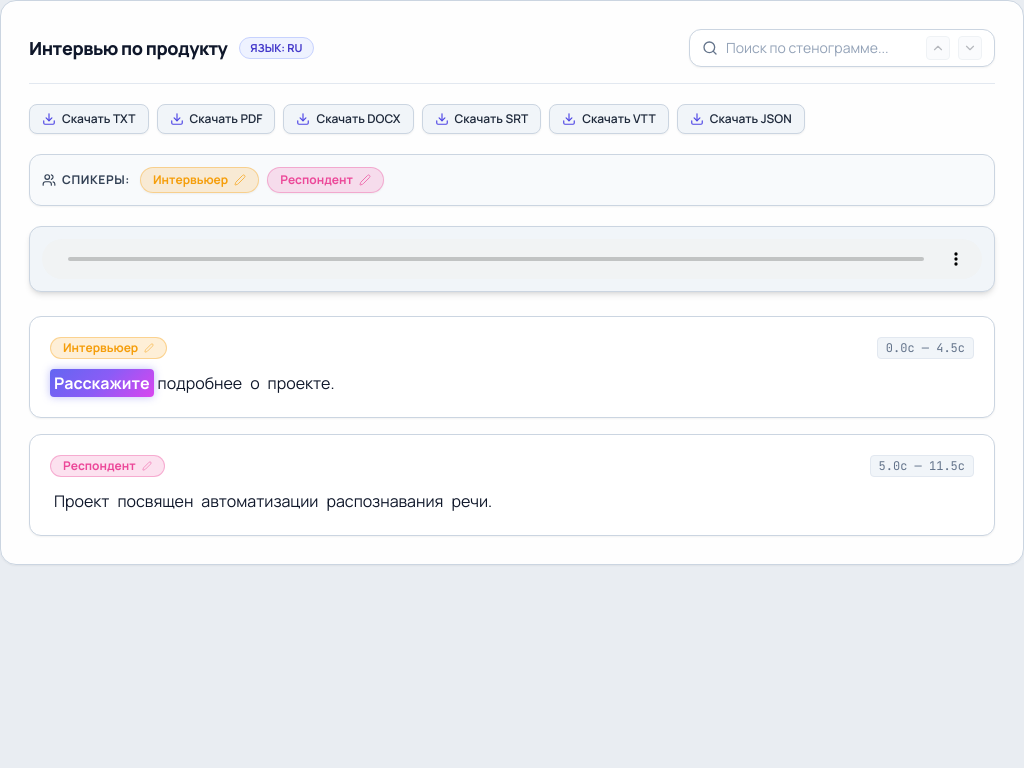
Scenario: TranscriptPlayer component › should filter and highlight words matching search query
Type "проект" into the field with placeholder "Поиск по стенограмме...". click: (822, 48)
box: [726,38,918,58]
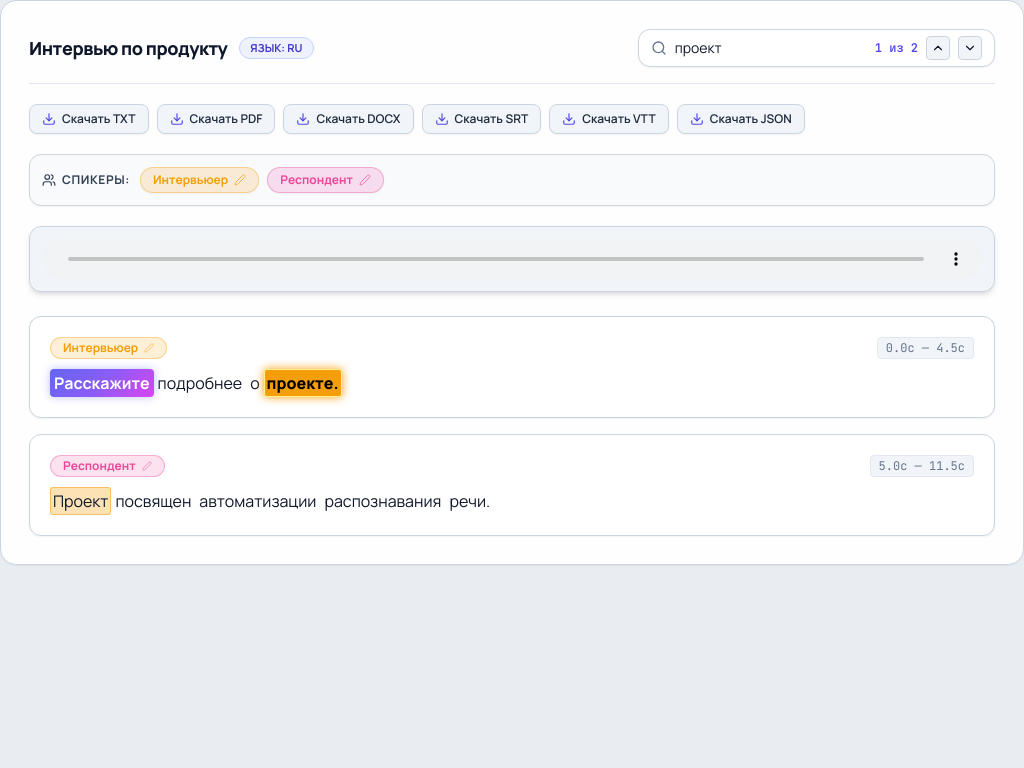
Check: the text "1 из 2" is shown, box [875,40,918,56]
Click the button titled "Следующее совпадение (Enter)". click: (970, 48)
box: [958,36,982,60]
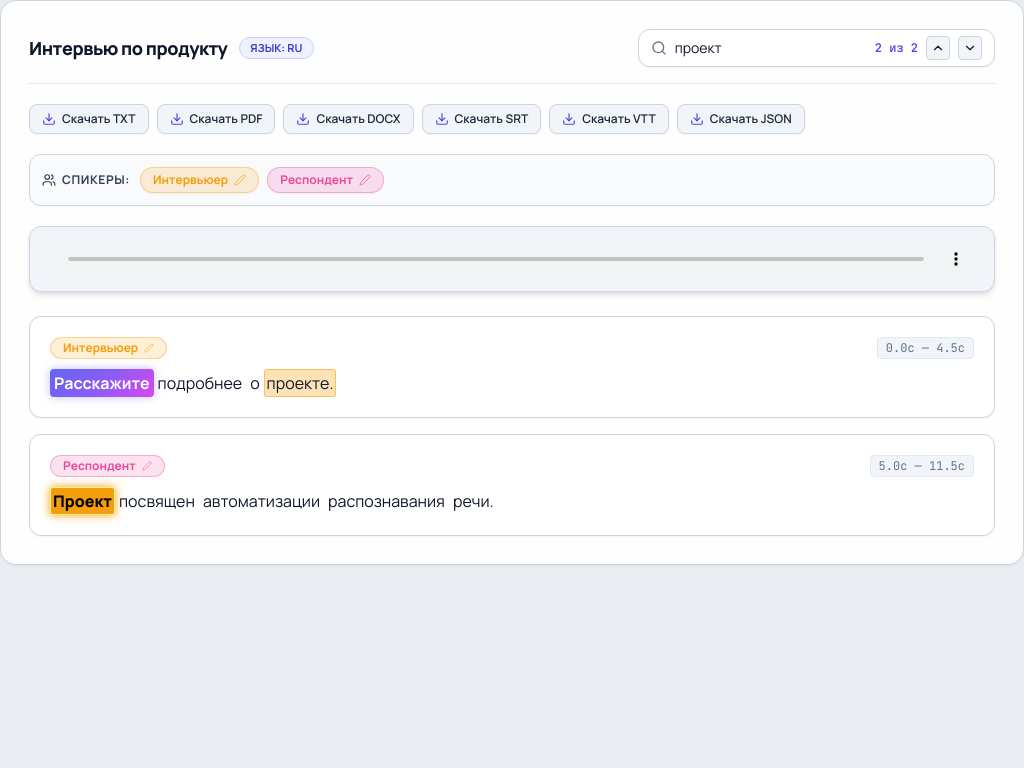
Check: the text "2 из 2" is shown, box [875,40,918,56]
Click the button titled "Предыдущее совпадение (Shift+Enter)". click: (938, 48)
box: [926,36,950,60]
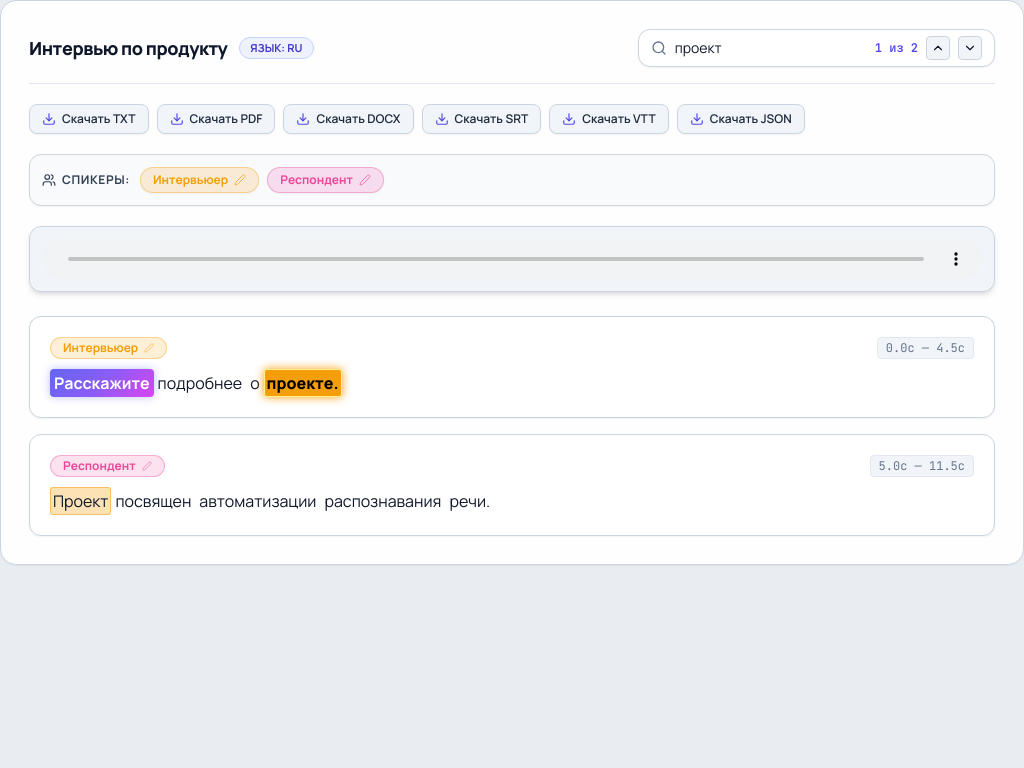
Check: the text "1 из 2" is shown, box [875,40,918,56]
